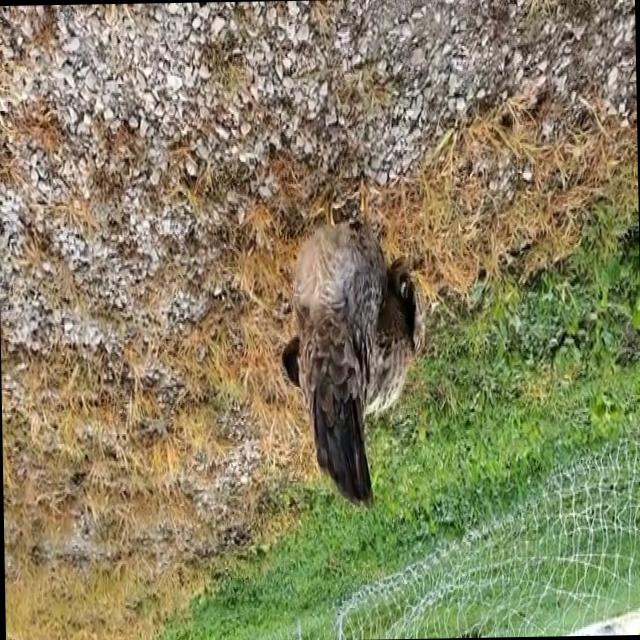self preening: (283, 179, 442, 520)
